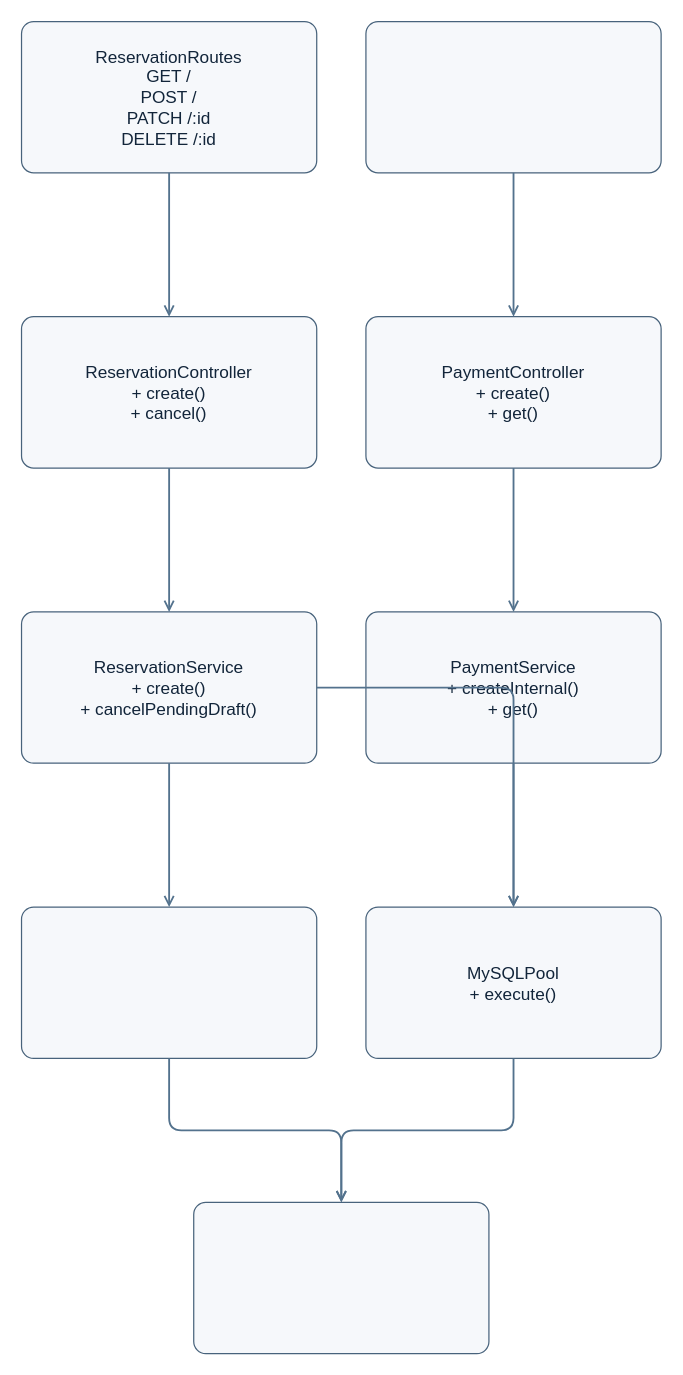
This 683x1375 diagram has some shape labels left out. The shapes that lost their labels are listed below. From the top down, each one's box as (x1, y1, x2, y2) in pixels, then its label:
(365, 20, 661, 173): PaymentRoutes GET / POST /
(20, 906, 317, 1058): ReservationRepository + find() + anyPayment()
(192, 1201, 489, 1354): MySQL8 tb_reserva tb_pagamento historicos
